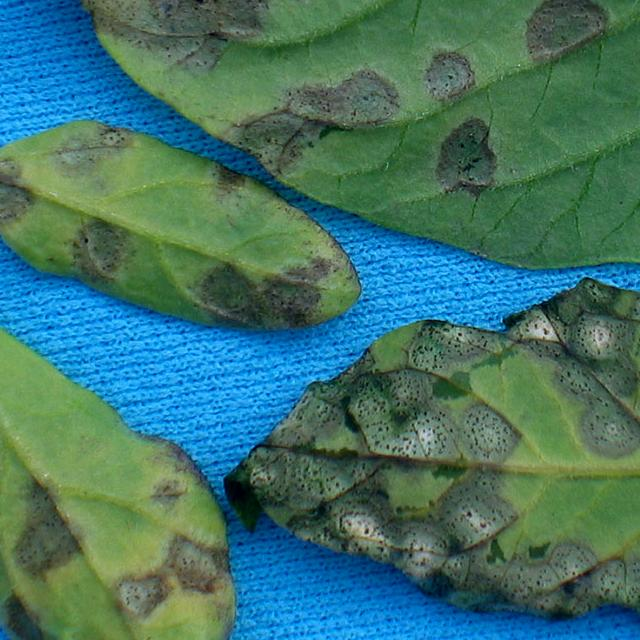Tomato Septoria leaf spot: (0, 0, 640, 276), (200, 277, 640, 640), (0, 115, 374, 338), (0, 279, 221, 640)
